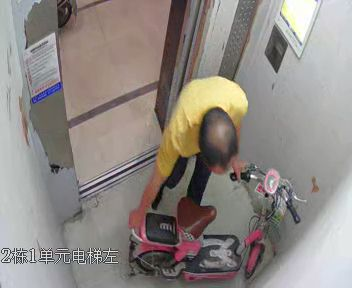Electric-bicycle: (125, 160, 308, 279)
